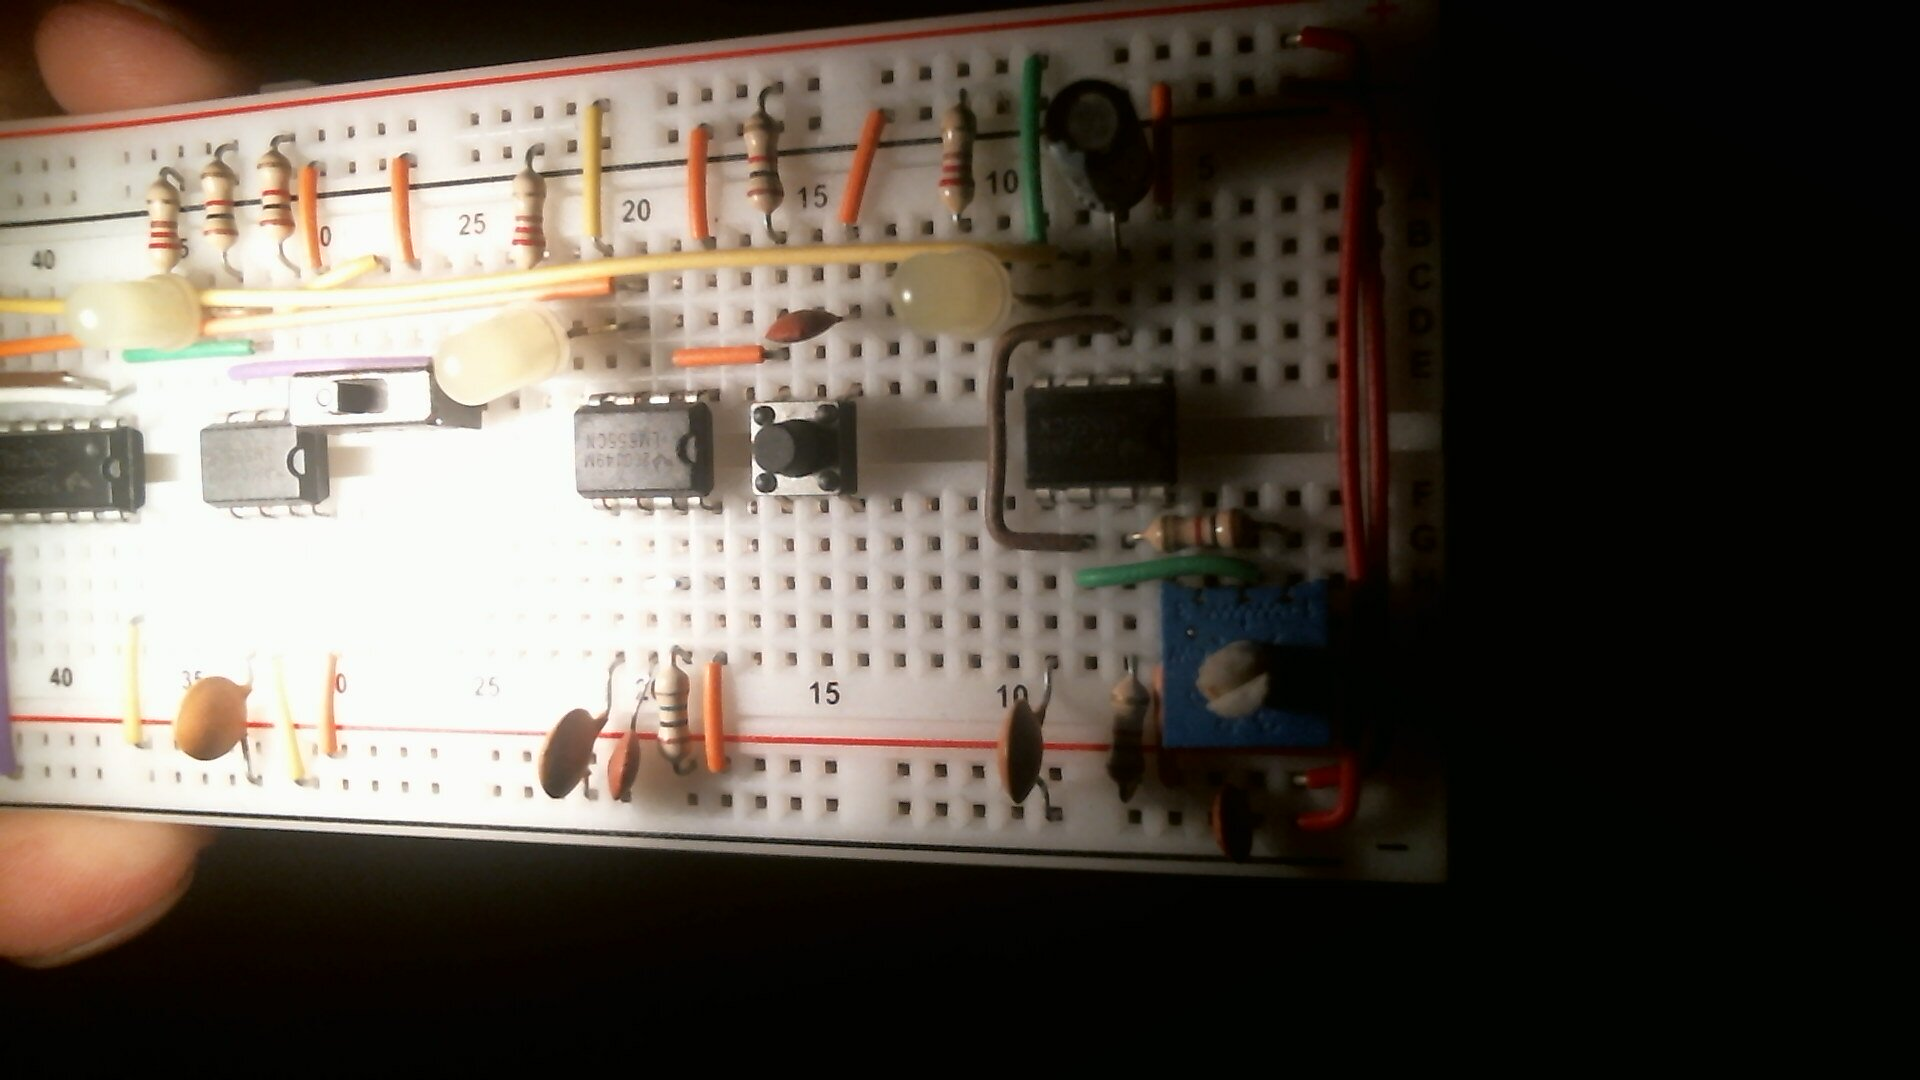IC: (1021, 373, 1182, 504), (572, 394, 716, 510), (3, 417, 149, 525), (198, 413, 334, 518)
LED: (430, 301, 572, 407), (887, 247, 1014, 342), (61, 272, 204, 355)
ceramic_capacitor: (171, 674, 255, 764), (992, 695, 1051, 808), (535, 707, 603, 800), (1207, 781, 1257, 866), (761, 305, 849, 345), (605, 721, 644, 804)
electrolytic_capacitor: (1040, 76, 1159, 227)
resistor: (1106, 663, 1153, 802), (1141, 506, 1265, 558), (738, 109, 789, 225), (650, 659, 695, 775), (935, 100, 978, 216), (196, 157, 243, 258), (255, 142, 298, 249), (508, 164, 549, 273), (142, 177, 189, 272)
